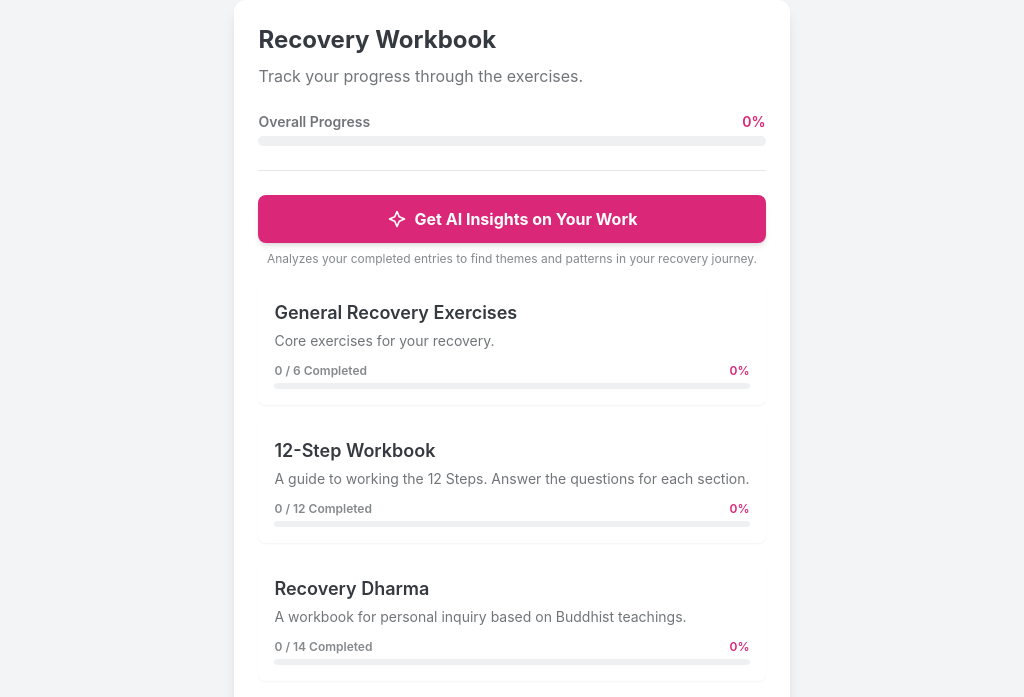
RecoveryWorkbook Component › should navigate to a topic view and display its questions
Click the heading "12-Step Workbook". click: coordinates (355, 450)
box: [274,440,436,461]
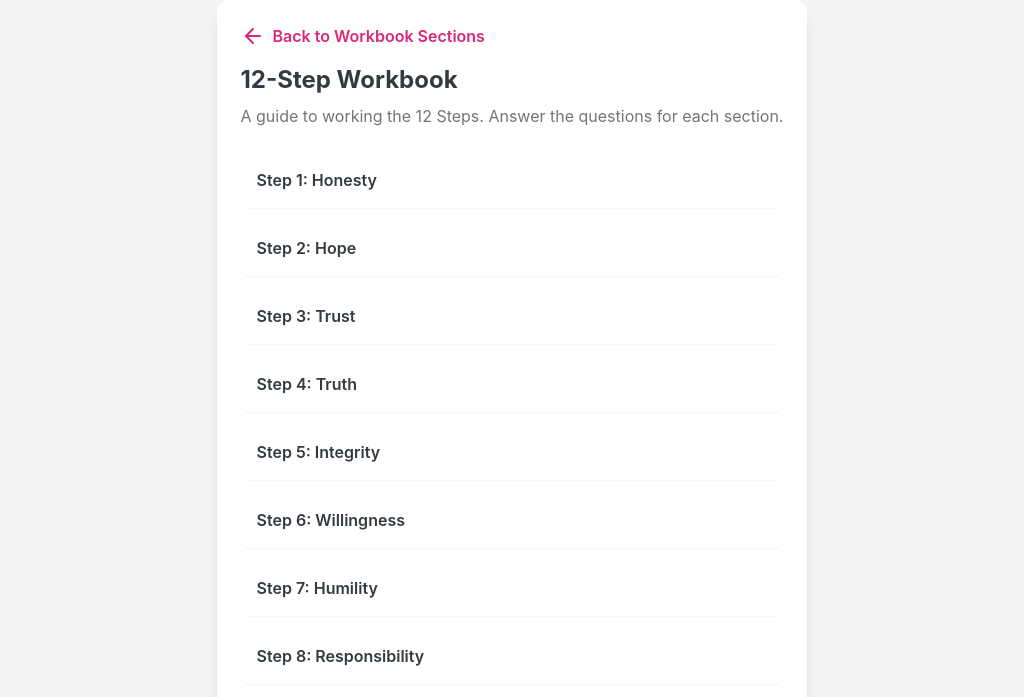
Click the button "Step 1: Honesty". click: coordinates (317, 180)
box: [240,152,784,208]
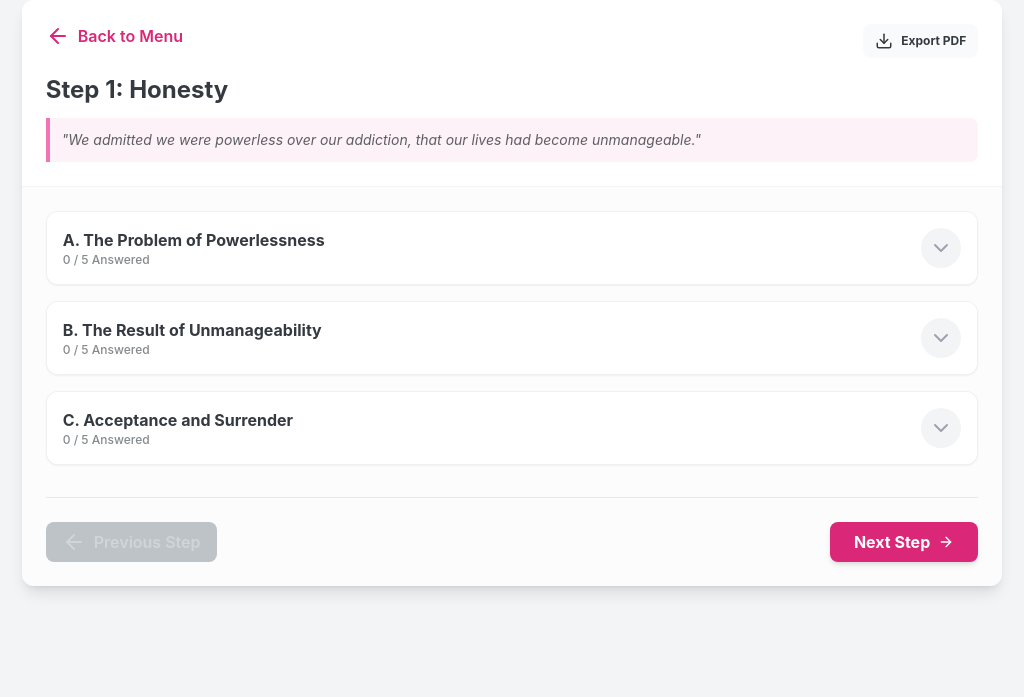
Expected: the text "We admitted we were powerless" is shown, [68,131,694,148]
